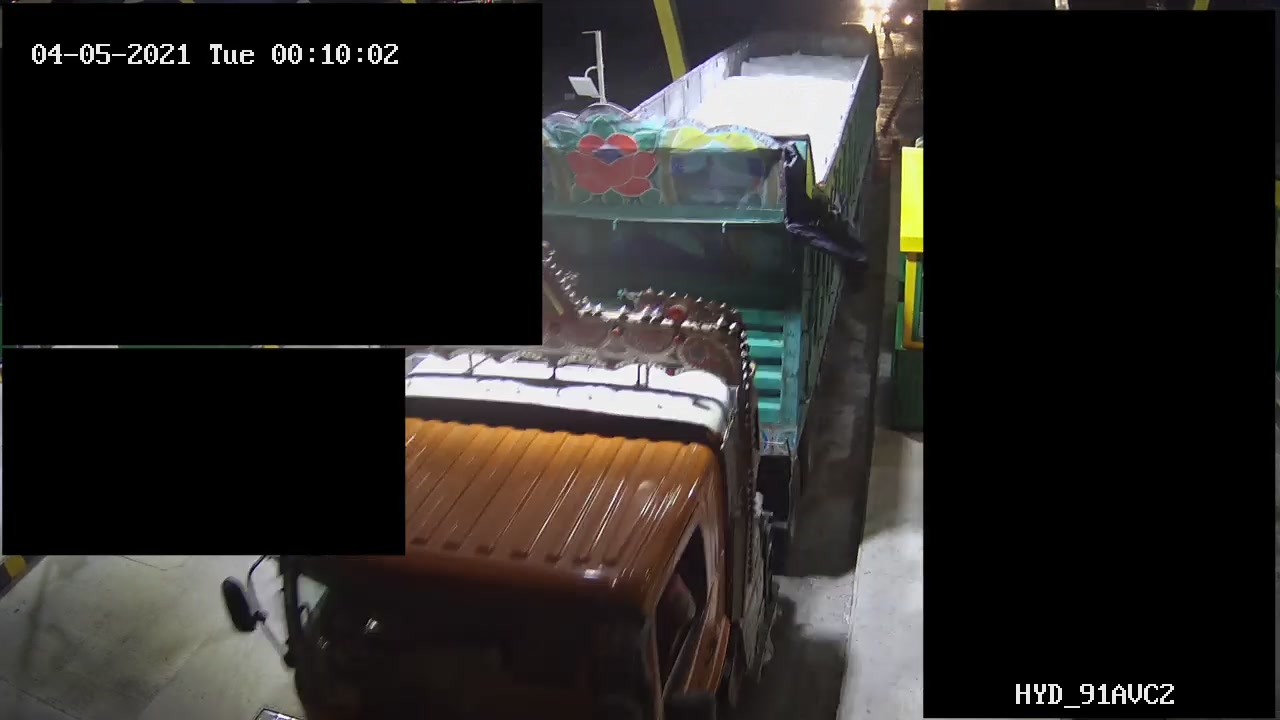F6: (265, 26, 878, 711)
